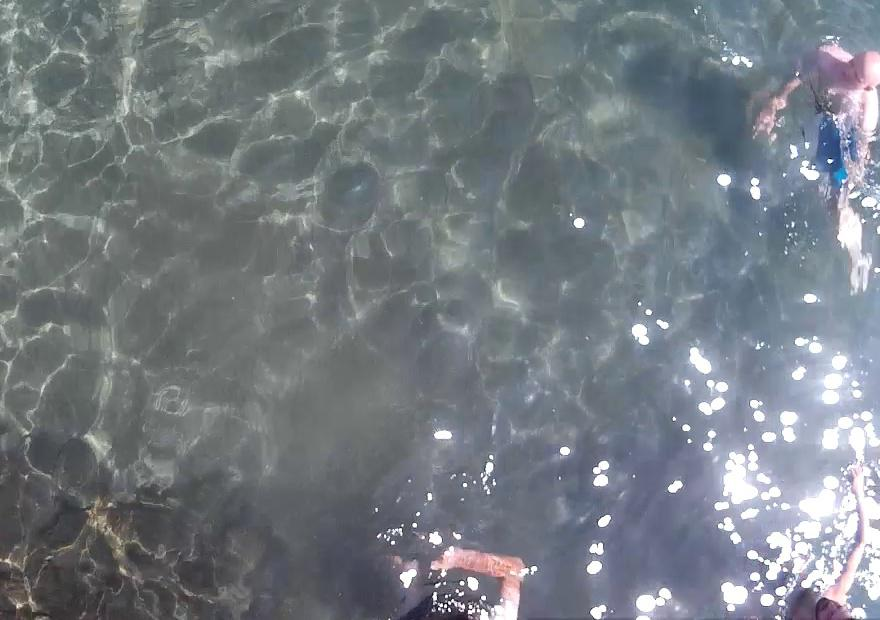human: (748, 0, 875, 251)
